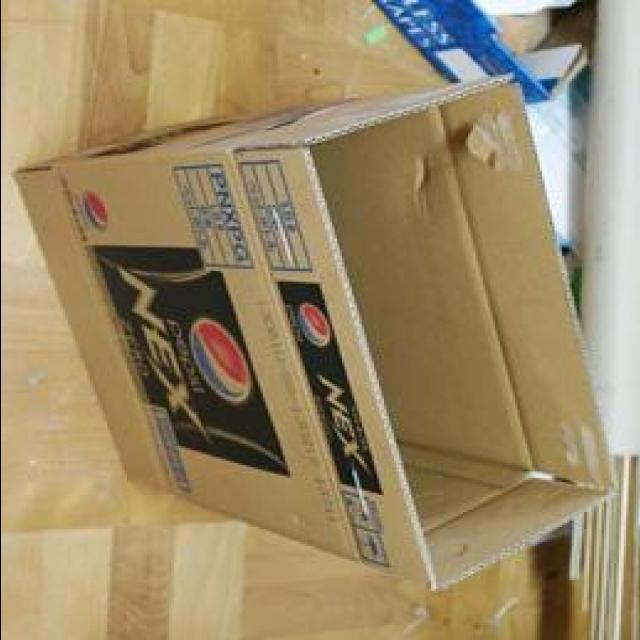-Recyclables - paper box-: (14, 81, 614, 589), (366, 0, 606, 100)
